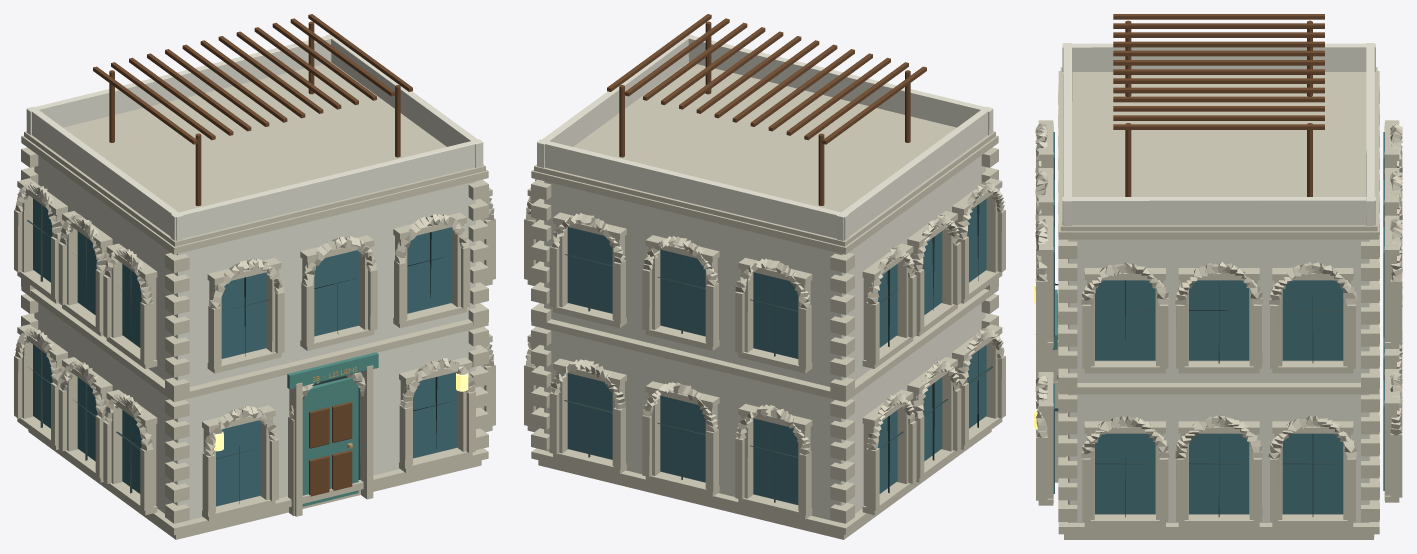
The model's file is algerie-2-lod.glb.
3 renders of one model, left to right at view 1: azimuth 30°, elevation 25°; view 2: azimuth 150°, elevation 25°; view 3: azimuth 270°, elevation 25°, orthographic. The views are drawn at different scales.
Parts seen in each view (by area): view 1: algerie-2_Dressed stone.001, algerie-2_Masonry plaster.001, algerie-2_Window blue.001, algerie-2_Walnut.001, algerie-2_Regional painted wood.001, algerie-2_Forged midnight.001; view 2: algerie-2_Dressed stone.001, algerie-2_Masonry plaster.001, algerie-2_Window blue.001, algerie-2_Walnut.001, algerie-2_Forged midnight.001; view 3: algerie-2_Dressed stone.001, algerie-2_Masonry plaster.001, algerie-2_Window blue.001, algerie-2_Walnut.001, algerie-2_Forged midnight.001.
Boxes of the visible parts, x1,y1,x2,y2 form: algerie-2_Dressed stone.001: (14, 62, 495, 539); algerie-2_Masonry plaster.001: (26, 34, 483, 522); algerie-2_Window blue.001: (33, 198, 457, 506); algerie-2_Walnut.001: (93, 14, 412, 496); algerie-2_Regional painted wood.001: (287, 352, 378, 506); algerie-2_Forged midnight.001: (27, 204, 450, 503); algerie-2_Dressed stone.001: (524, 62, 1005, 539); algerie-2_Masonry plaster.001: (537, 34, 993, 522); algerie-2_Window blue.001: (567, 198, 986, 504); algerie-2_Walnut.001: (607, 14, 926, 205); algerie-2_Forged midnight.001: (564, 204, 993, 502); algerie-2_Dressed stone.001: (1035, 67, 1402, 539); algerie-2_Masonry plaster.001: (1062, 43, 1375, 522); algerie-2_Window blue.001: (1053, 132, 1384, 514); algerie-2_Walnut.001: (1113, 14, 1324, 196); algerie-2_Forged midnight.001: (1055, 280, 1343, 517).
Size of the model in its own units: 14.19 by 14.27 by 12.2.
